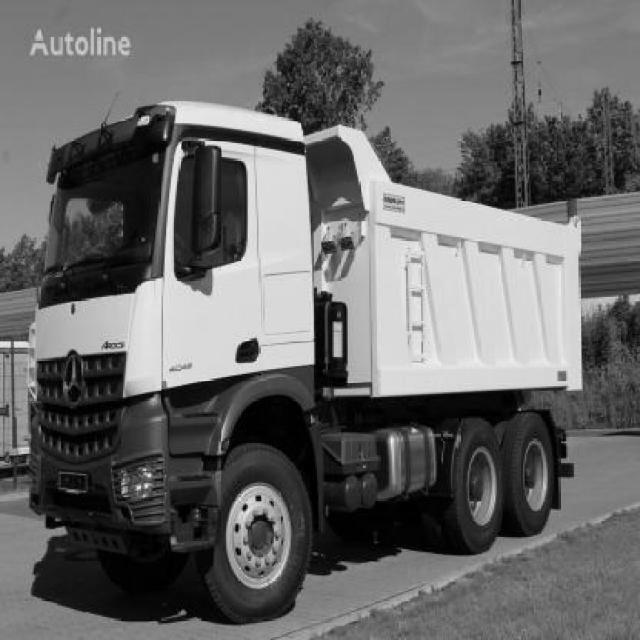Truck- Multi-Axle: (29, 102, 583, 627)
